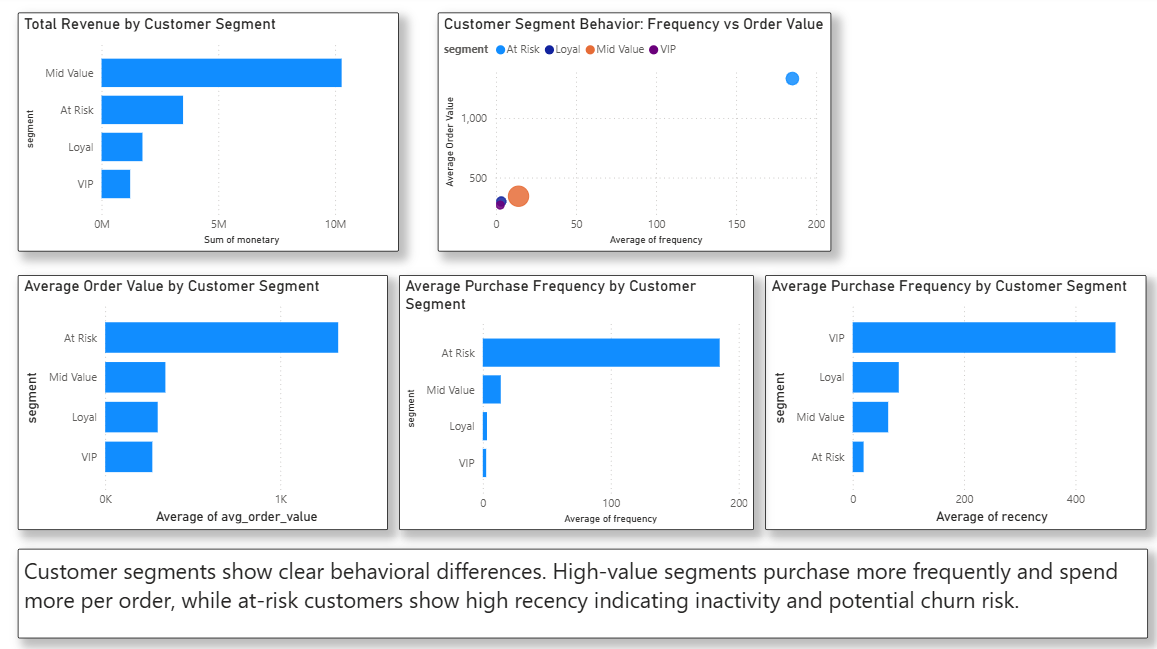

The page's visual inventory and layout, read from the dashboard file:
{"tool":"powerbi","page":{"name":"Customer Segment Behavior","canvas":[1280,720],"ordinal":1},"visuals":[{"type":"clusteredBarChart","title":"Total Revenue by Customer Segment","fields":{"Y":["Sum(customer_segments.monetary)"],"Category":["customer_segments.segment"]},"box":[26.1,19.2,418.5,262.1],"z":0},{"type":"scatterChart","title":"Customer Segment Behavior: Frequency vs Order Value","fields":{"X":["Avg(customer_segments.frequency)"],"Y":["Avg(customer_segments.avg_order_value)"],"Size":["Sum(customer_segments.monetary)"],"Series":["customer_segments.segment"]},"box":[487.1,19.2,432.2,262.1],"z":1000},{"type":"clusteredBarChart","title":"Average Order Value by Customer Segment","fields":{"Category":["customer_segments.segment"],"Y":["Avg(customer_segments.avg_order_value)"]},"box":[26.1,307.4,406.2,279.9],"z":2000},{"type":"clusteredBarChart","title":"Average Purchase Frequency by Customer Segment","fields":{"Category":["customer_segments.segment"],"Y":["Avg(customer_segments.recency)"]},"box":[846.7,307.4,418.5,279.9],"z":3000},{"type":"clusteredBarChart","title":"Average Purchase Frequency by Customer Segment","fields":{"Category":["customer_segments.segment"],"Y":["Avg(customer_segments.frequency)"]},"box":[444.6,307.4,389.7,279.9],"z":4000},{"type":"textbox","box":[26.1,607.9,1240.5,98.8],"z":4001}]}

Visuals, with their boxes in screenshot pixels (x1, y1, x2, y2), scaled from the page's 1280x720 canvas onto the 1157x649 screenshot:
"Total Revenue by Customer Segment" clusteredBarChart: 24,17,402,254
"Customer Segment Behavior: Frequency vs Order Value" scatterChart: 440,17,831,254
"Average Order Value by Customer Segment" clusteredBarChart: 24,277,391,529
"Average Purchase Frequency by Customer Segment" clusteredBarChart: 765,277,1144,529
"Average Purchase Frequency by Customer Segment" clusteredBarChart: 402,277,754,529
textbox: 24,548,1145,637
